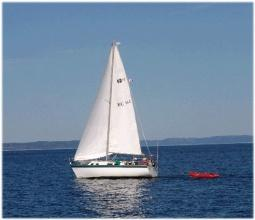fanchuan: (66, 40, 160, 181)
